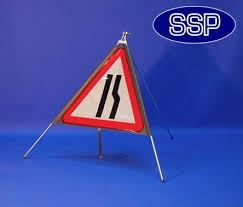narrow_road: (59, 46, 149, 133)
